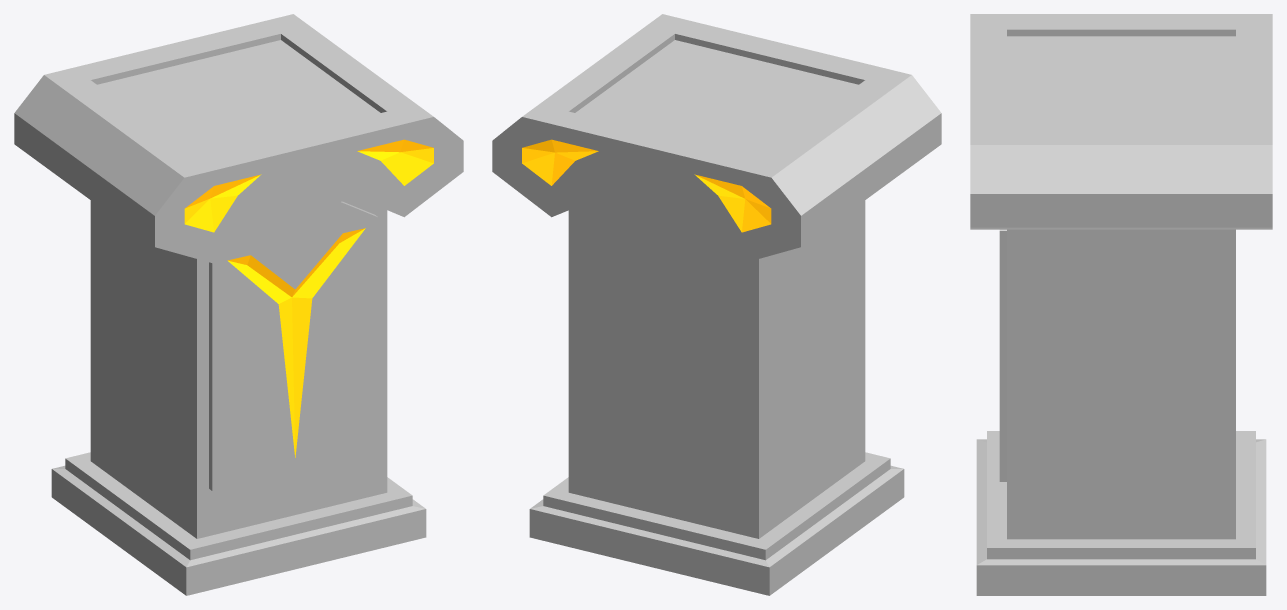
Rendered from pedi2.fbx.
3 views of the same model, side by side, from view 1: azimuth 30°, elevation 25°; view 2: azimuth 150°, elevation 25°; view 3: azimuth 270°, elevation 25° (orthographic). The views are drawn at different scales.
Visible parts, largest first — view 1: Cube; view 2: Cube; view 3: Cube.
Boxes of the visible parts, <box> form: Cube: <box>14,14,463,595</box>; Cube: <box>492,14,941,595</box>; Cube: <box>970,14,1272,595</box>.
Size of the model in its own units: 521 by 680 by 411.
